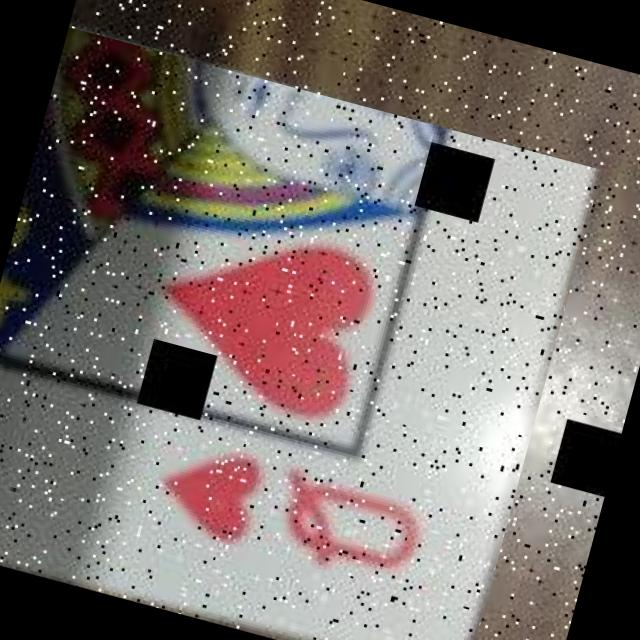Queen of hearts: (0, 26, 600, 640)
